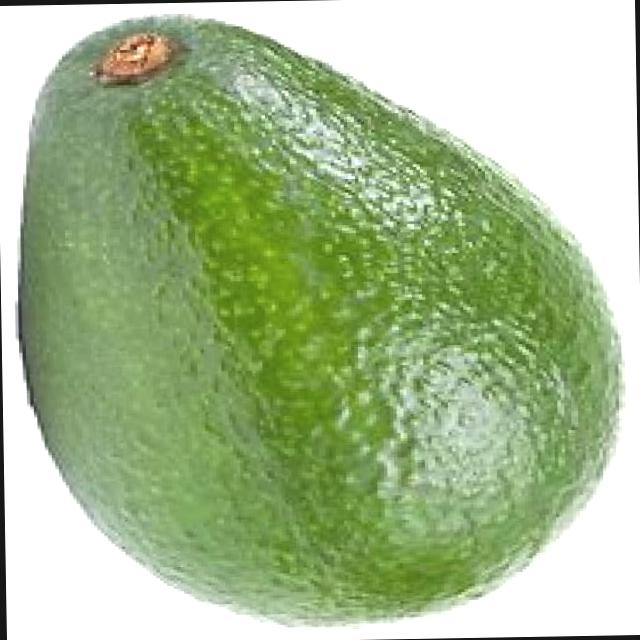avocado: (0, 3, 618, 640)
